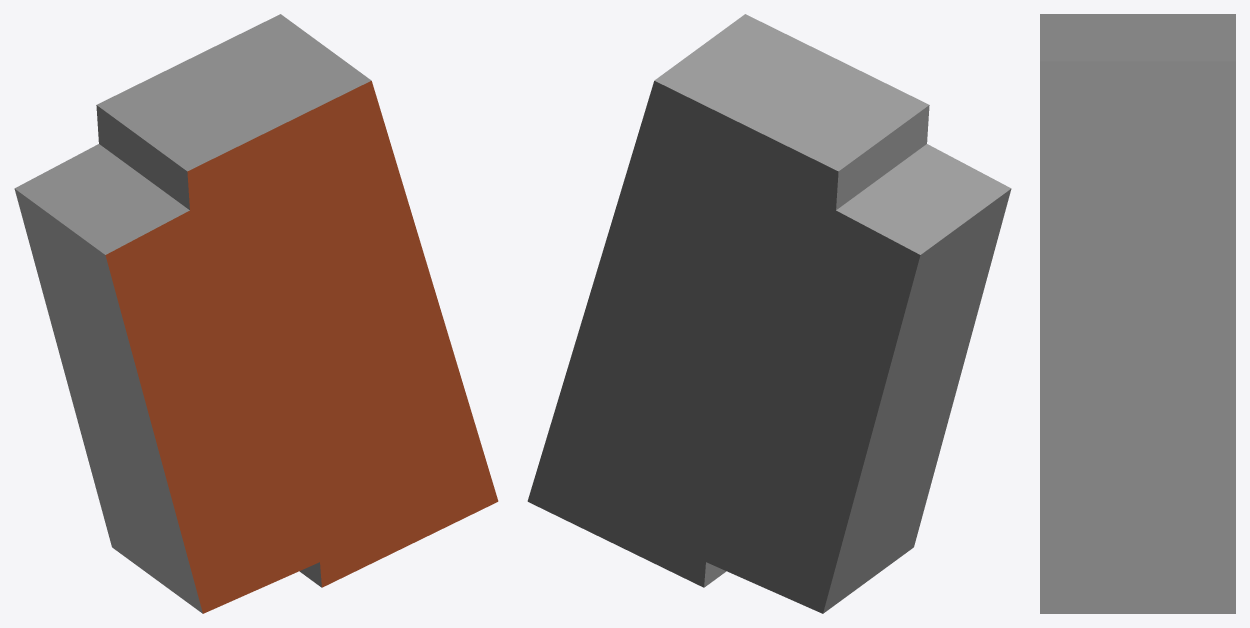
File: construction_4171_assumed_A_Casa_h6m.obj
3 views of the same model, side by side, from view 1: azimuth 30°, elevation 25°; view 2: azimuth 150°, elevation 25°; view 3: azimuth 270°, elevation 25° (orthographic). The views are drawn at different scales.
Visible parts, largest first — view 1: construction_4171_assumed_A_Casa; view 2: construction_4171_assumed_A_Casa; view 3: construction_4171_assumed_A_Casa.
Boxes of the visible parts, x1,y1,x2,y2 form: construction_4171_assumed_A_Casa: [14, 14, 498, 613]; construction_4171_assumed_A_Casa: [527, 14, 1011, 613]; construction_4171_assumed_A_Casa: [1040, 14, 1235, 613].
Size of the model in its own units: 14.96 by 18.01 by 6.
